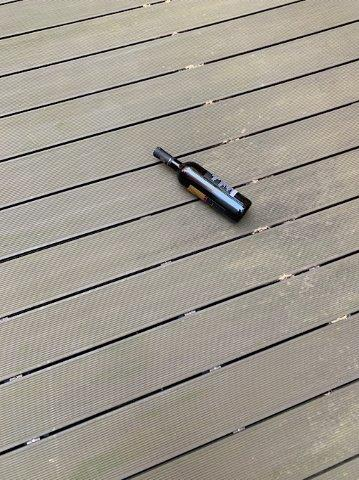botolkaca: (155, 148, 254, 225)
